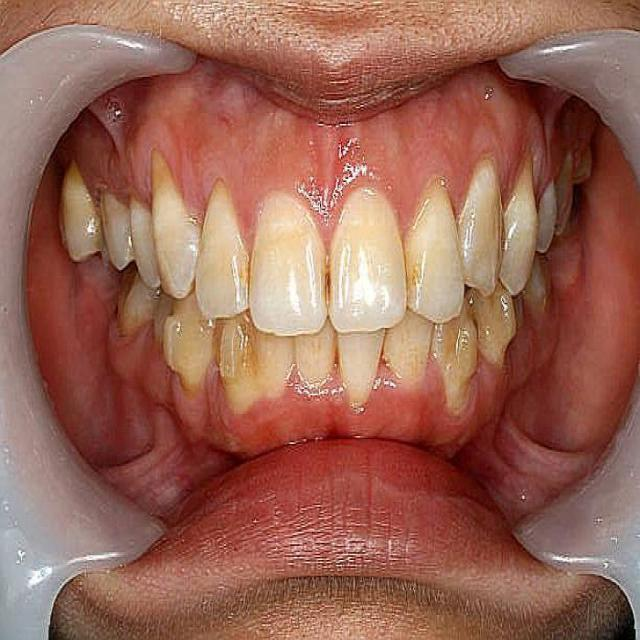CALCULUS: (470, 301, 524, 344), (440, 331, 483, 374), (490, 189, 515, 260), (231, 329, 260, 389), (150, 169, 175, 197), (411, 268, 431, 301)
